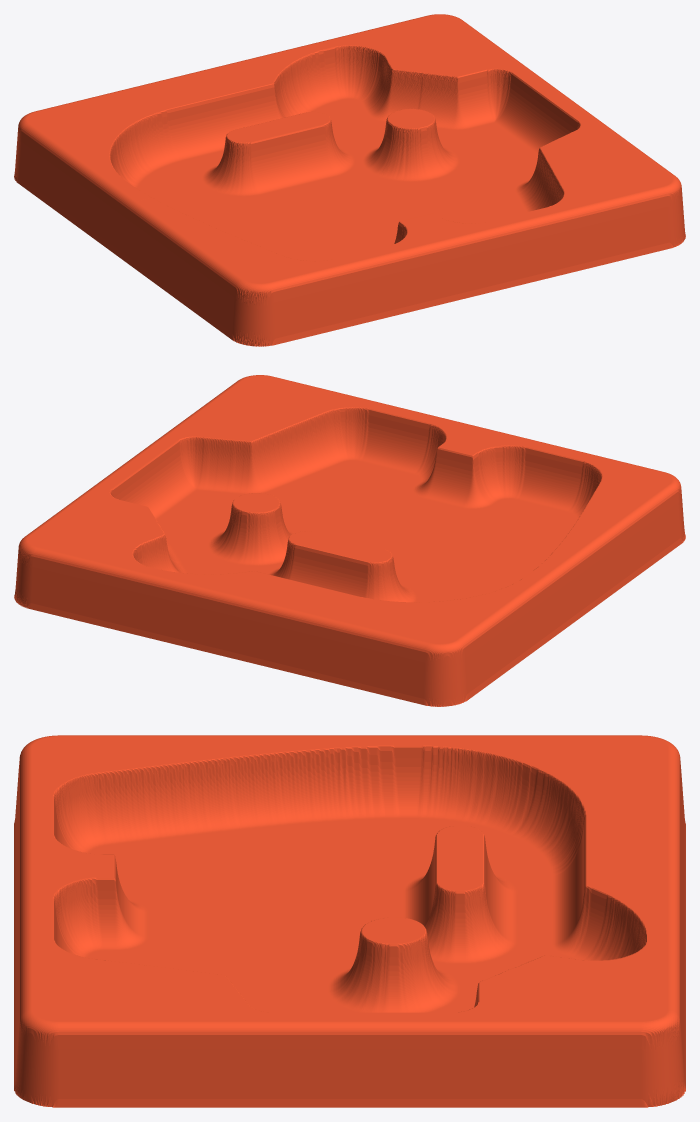
The model's file is mold.glb.
The picture shows the model from 3 angles, top to bottom: view 1: azimuth 30°, elevation 25°; view 2: azimuth 150°, elevation 25°; view 3: azimuth 270°, elevation 25°; orthographic projection. The views are drawn at different scales.
Visible parts, largest first — view 1: geometry_0; view 2: geometry_0; view 3: geometry_0.
Boxes of the visible parts, left/top/right/bottom form: geometry_0: left=14, top=14, right=685, bottom=346; geometry_0: left=14, top=375, right=685, bottom=706; geometry_0: left=14, top=735, right=685, bottom=1107.
Size of the model in its own units: 0.1435 by 0.0175 by 0.1358.
